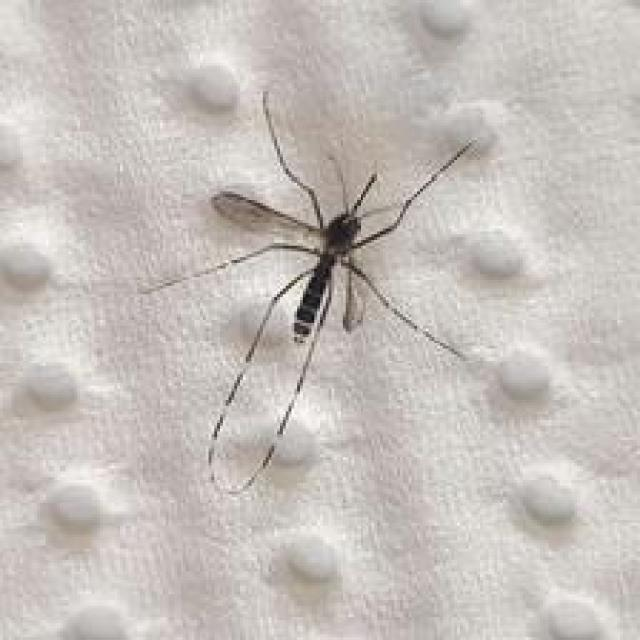Aedes albopictus: (137, 87, 483, 496)
